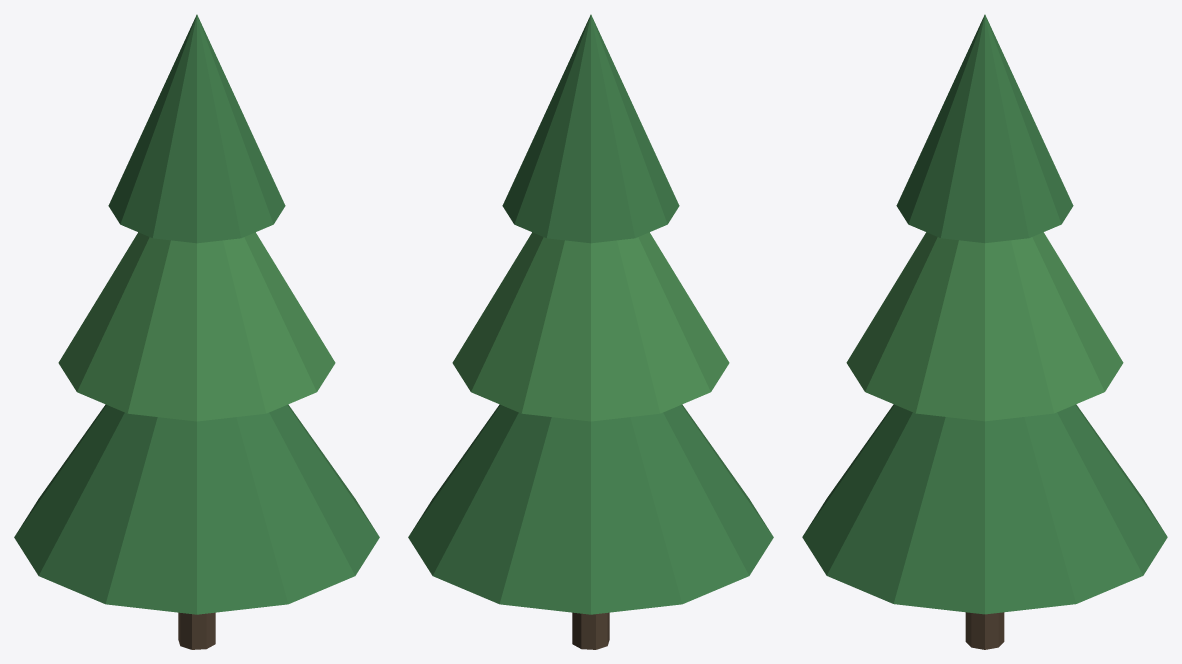
File: tree_pine.glb
3 views of the same model, side by side, from view 1: azimuth 30°, elevation 25°; view 2: azimuth 150°, elevation 25°; view 3: azimuth 270°, elevation 25° (orthographic).
Visible parts, largest first — view 1: tree_pine; view 2: tree_pine; view 3: tree_pine.
Part boxes in pixels (x1,y1,x2,y2): tree_pine: (14, 14, 379, 649); tree_pine: (408, 14, 773, 649); tree_pine: (802, 14, 1167, 649).
Bounding box in the file's own units: 1.9 × 3.6 × 1.9.
